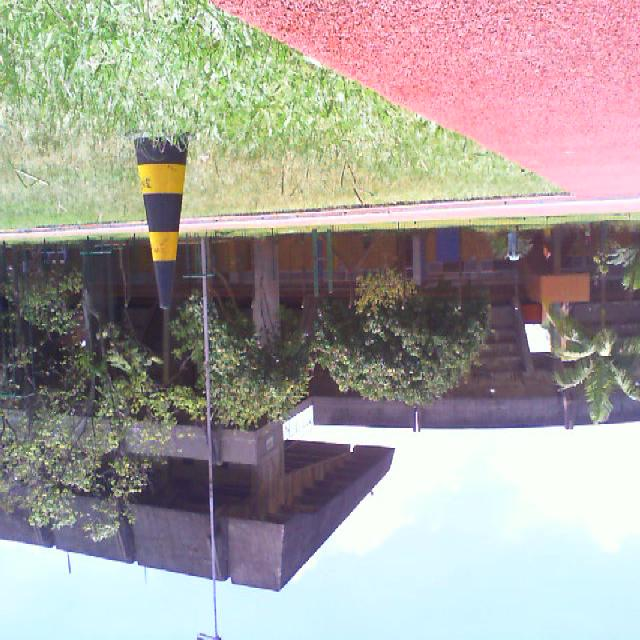cone: (125, 129, 197, 308)
